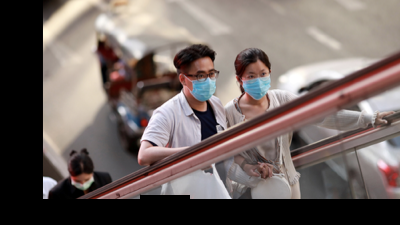with_mask: (185, 67, 217, 100), (240, 71, 271, 99), (70, 175, 94, 190)
